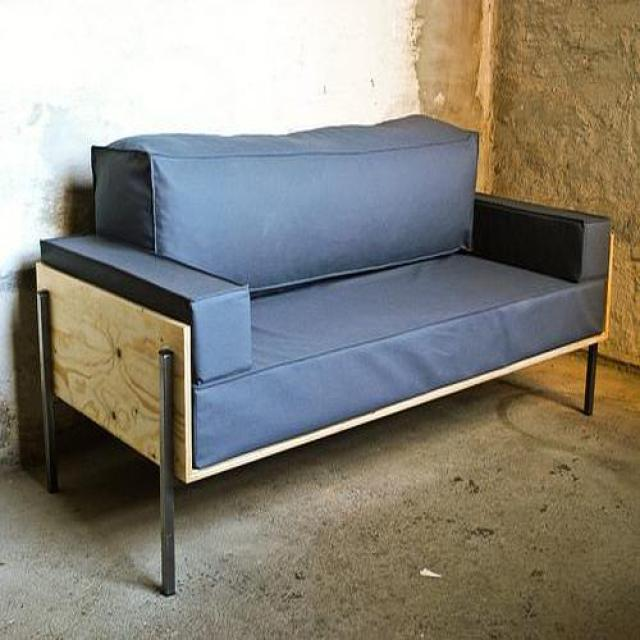sofa: (35, 115, 611, 599)
